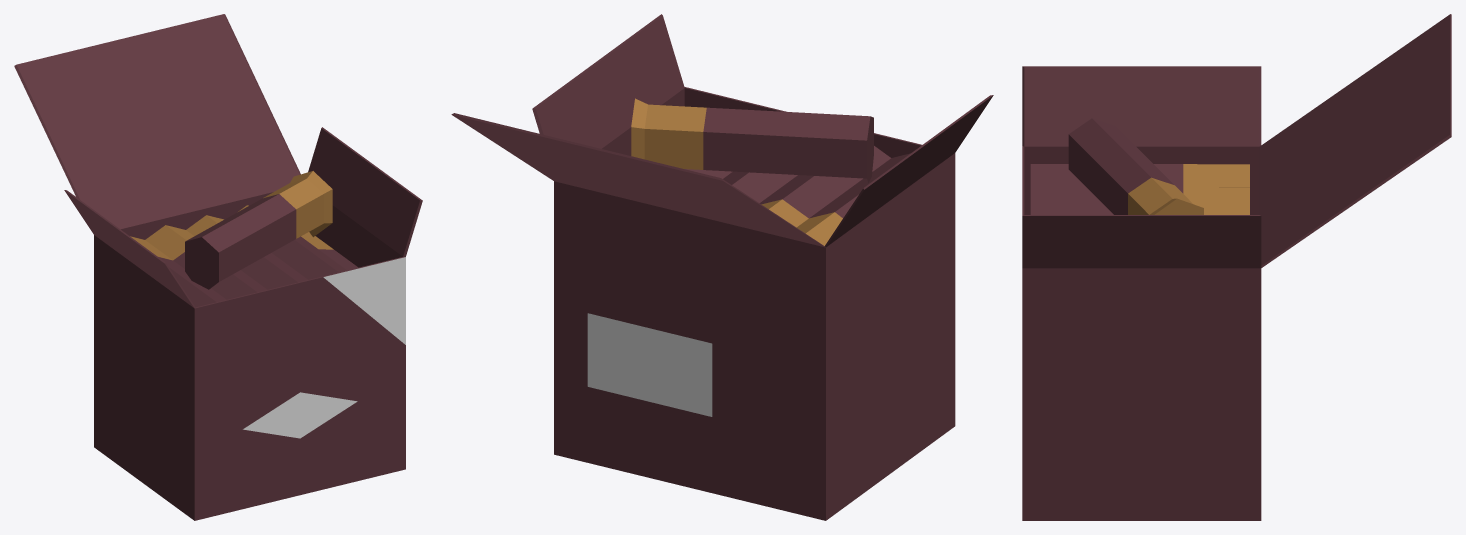
The model's file is ammo-shotgun-open.fbx.
3 renders of one model, left to right at view 1: azimuth 30°, elevation 25°; view 2: azimuth 150°, elevation 25°; view 3: azimuth 270°, elevation 25°, orthographic. The views are drawn at different scales.
Parts seen in each view (by area): view 1: ammo-shotgun-open; view 2: ammo-shotgun-open; view 3: ammo-shotgun-open.
Boxes of the visible parts, x1,y1,x2,y2 form: ammo-shotgun-open: (14, 14, 422, 520); ammo-shotgun-open: (451, 14, 993, 520); ammo-shotgun-open: (1022, 14, 1451, 520).
Size of the model in its own units: 0.1062 by 0.1274 by 0.1287.
